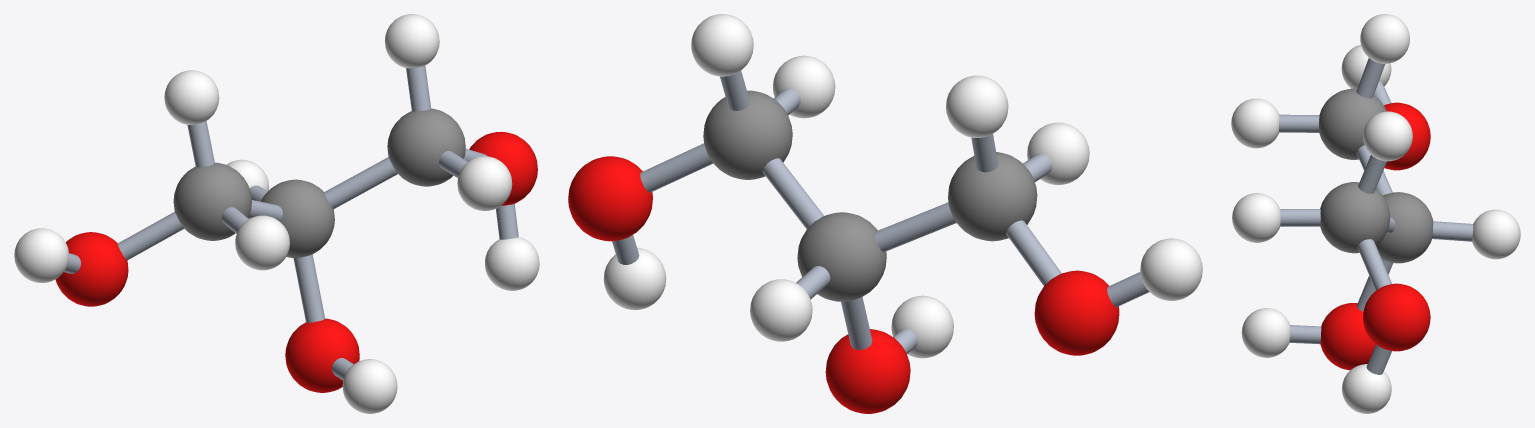
Rendered from glycerol.glb.
3 views of the same model, side by side, from view 1: azimuth 30°, elevation 25°; view 2: azimuth 150°, elevation 25°; view 3: azimuth 270°, elevation 25° (orthographic). The views are drawn at different scales.
Visible parts, largest first — view 1: H (×8), C (×3), O (×3), bond (×8); view 2: H (×8), C (×3), O (×3), bond (×10); view 3: H (×8), C (×3), O (×3), bond (×10).
Part boxes in pixels (bbox=[...]): H (×8): bbox=[14, 14, 539, 413]; C (×3): bbox=[173, 108, 465, 257]; O (×3): bbox=[55, 131, 537, 392]; bond (×8): bbox=[117, 66, 518, 322]; H (×8): bbox=[603, 14, 1202, 358]; C (×3): bbox=[703, 90, 1037, 301]; O (×3): bbox=[568, 156, 1119, 413]; bond (×10): bbox=[612, 70, 1149, 349]; H (×8): bbox=[1231, 14, 1520, 413]; C (×3): bbox=[1319, 88, 1433, 263]; O (×3): bbox=[1320, 102, 1430, 370]; bond (×10): bbox=[1279, 58, 1473, 374].
Size of the model in its own units: 0.22 by 0.1314 by 0.1143.
